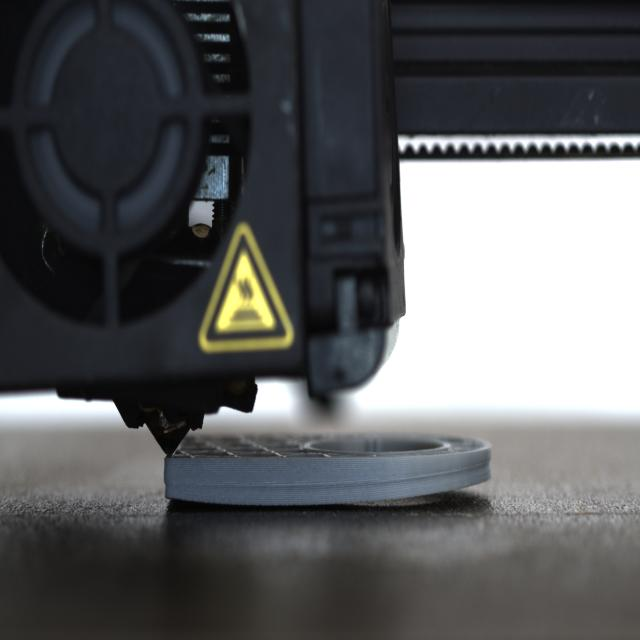Warping: (409, 462, 499, 508)
